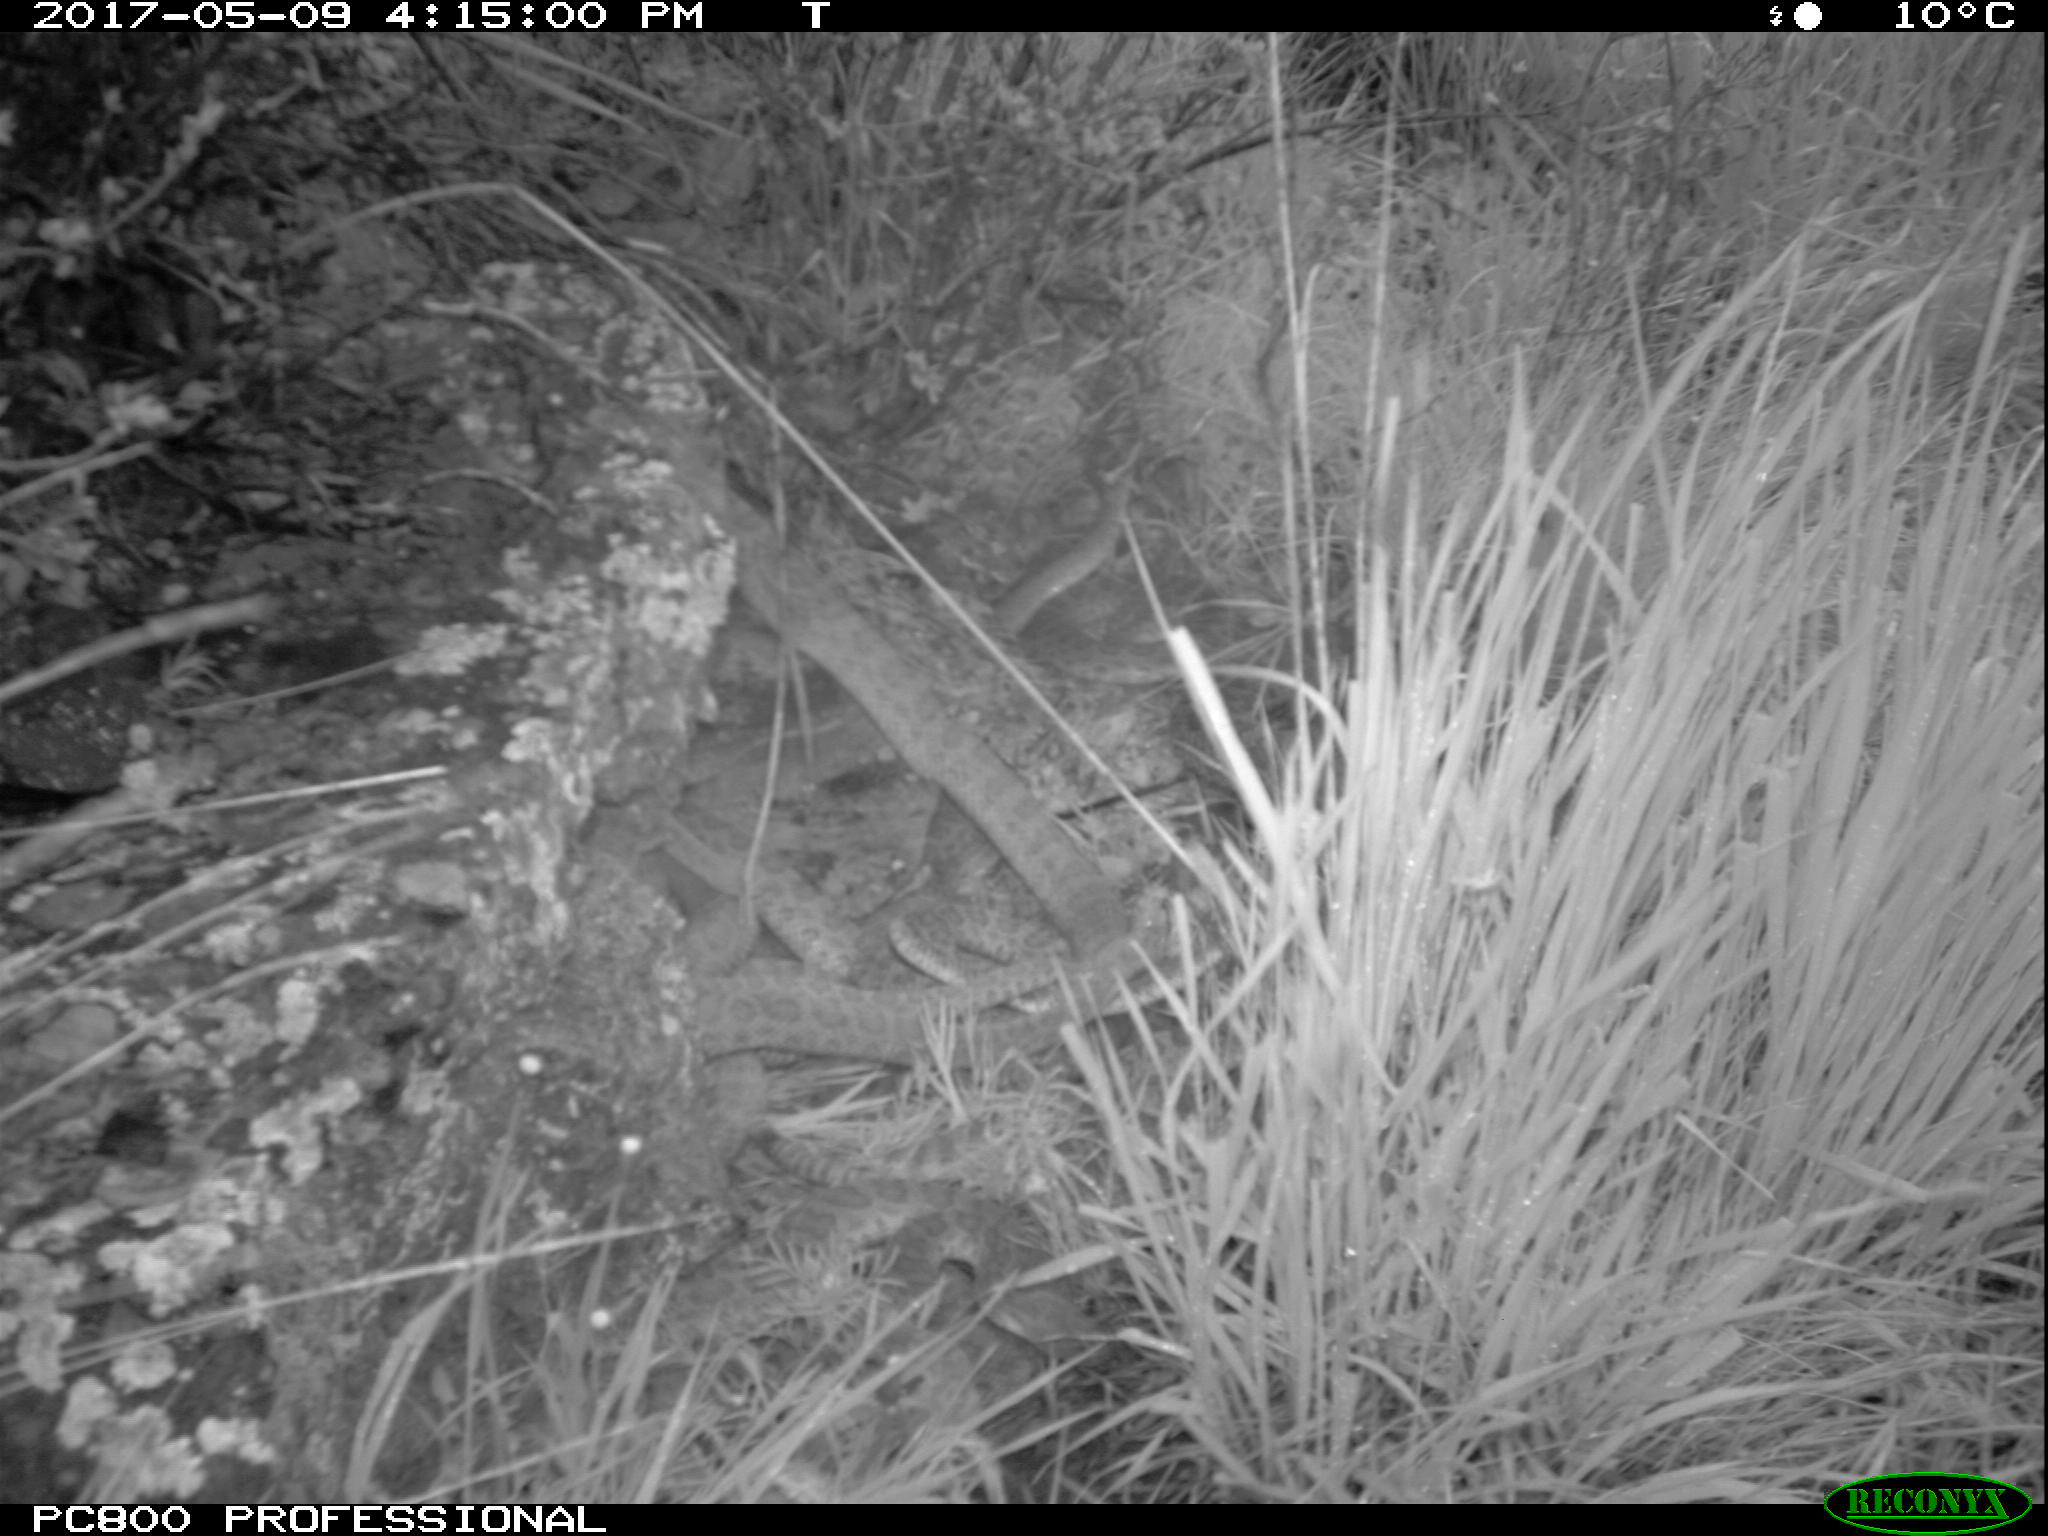snake: (779, 1154, 1105, 1368), (660, 947, 1072, 1078), (937, 758, 1134, 954), (685, 836, 851, 987), (993, 479, 1130, 647)
